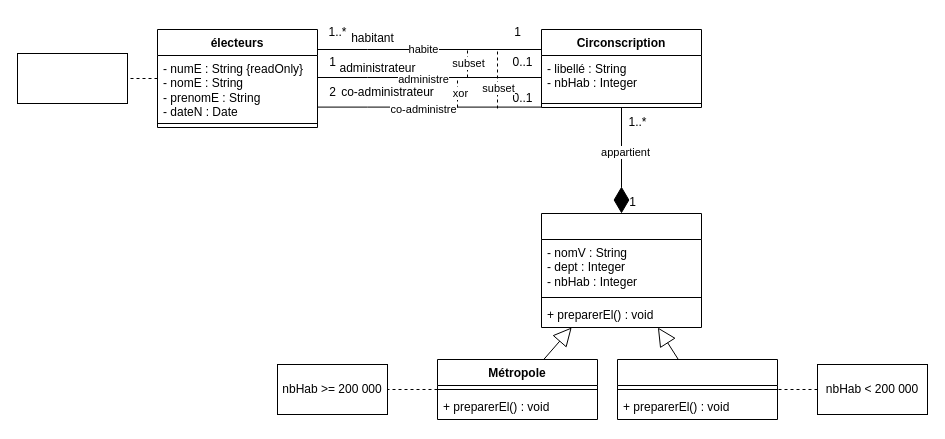
Some shapes in this 945 by 439 pixel diagram are drawn without their labels. Each missing label, with the box of its shape:
Commune: (616, 358, 778, 420)
dateA - dateN >=18: (16, 52, 128, 104)
Ville: (540, 212, 702, 328)
